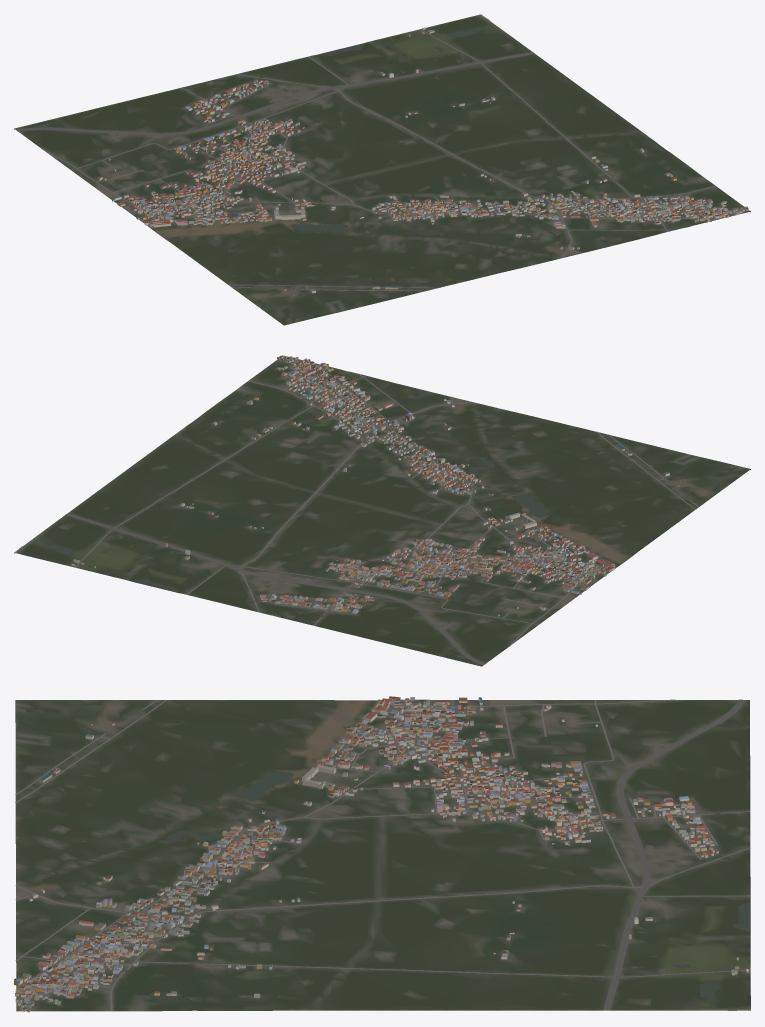
The picture shows the model from 3 angles, top to bottom: view 1: azimuth 30°, elevation 25°; view 2: azimuth 150°, elevation 25°; view 3: azimuth 270°, elevation 25°; orthographic projection. The views are drawn at different scales.
Visible parts, largest first — view 1: ground, buildings, roads, water; view 2: ground, buildings, roads, water; view 3: ground, buildings, roads, water.
Boxes of the visible parts, bbox=[...] form: ground: bbox=[14, 14, 750, 325]; buildings: bbox=[97, 27, 748, 296]; roads: bbox=[16, 14, 718, 291]; water: bbox=[291, 28, 688, 236]; ground: bbox=[14, 355, 750, 666]; buildings: bbox=[71, 355, 685, 616]; roads: bbox=[14, 363, 698, 665]; water: bbox=[43, 371, 548, 591]; ground: bbox=[15, 699, 750, 1011]; buildings: bbox=[14, 696, 748, 1012]; roads: bbox=[15, 699, 750, 1010]; water: bbox=[19, 772, 749, 1010].
Size of the model in its own units: 1411 by 16.24 by 1406.
